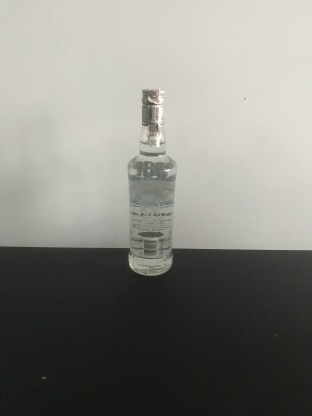nakretka: (139, 84, 166, 127)
